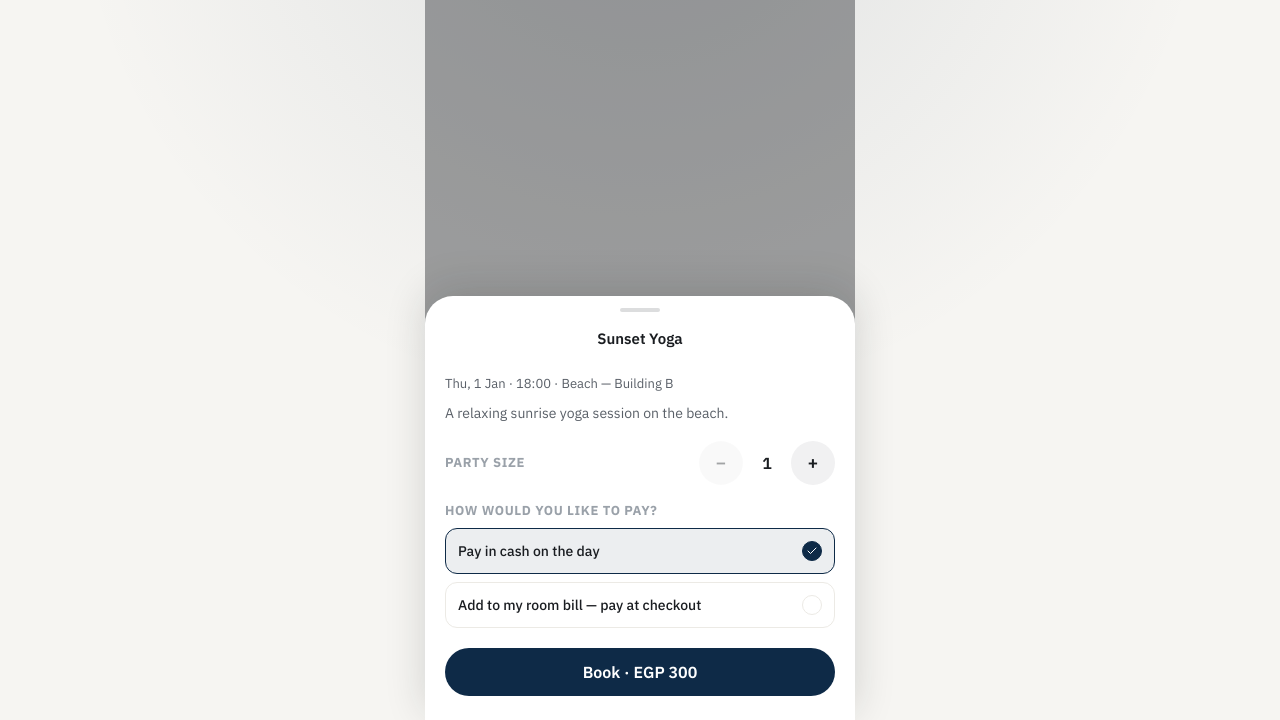
Test: EventBookingSheet (21.4) › recomputes the live total on stepper change (display-only)
Expected: the button with test id "book-event" shows "300", [445,648,835,696]
What coordinates should you click on to do the following:
click the button with test id "party-plus"
I would click on:
 (813, 462)
Its box is [791,440,835,484].
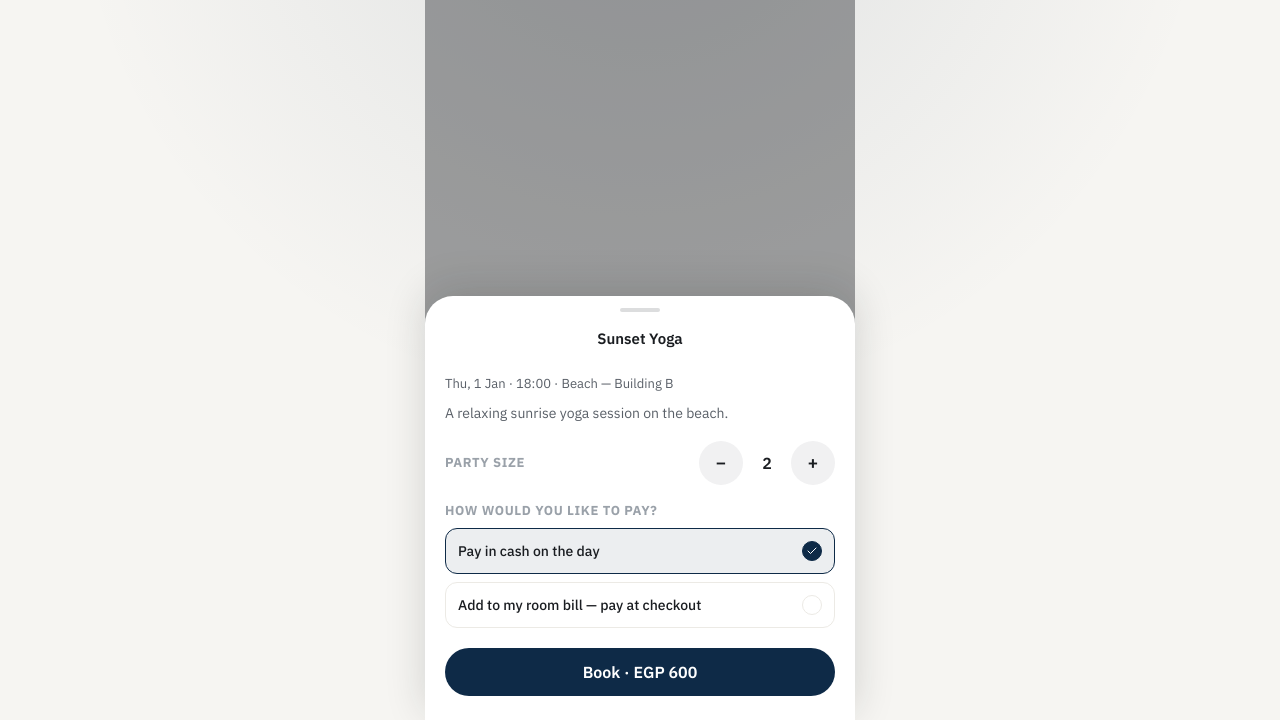
Now the button with test id "book-event" shows "600", box [445,648,835,696]
